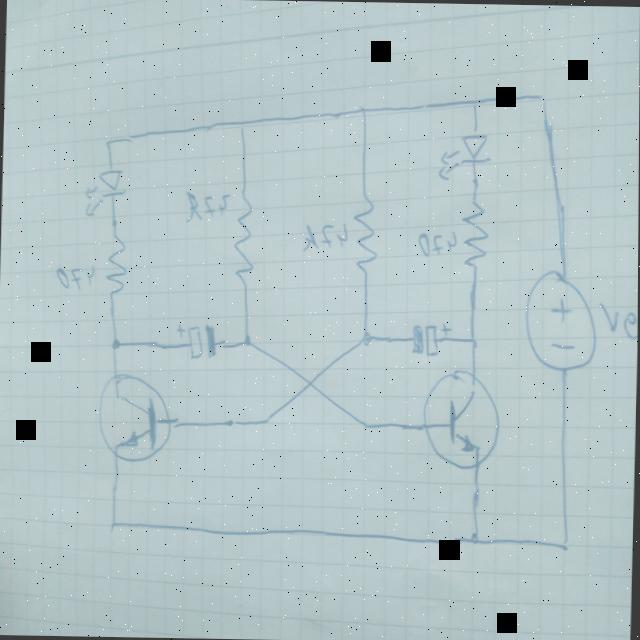capacitor: (172, 318, 218, 358), (408, 318, 453, 357)
crossover: (301, 370, 319, 396)
diode: (435, 130, 492, 183), (79, 164, 127, 219)
junction: (533, 89, 551, 107), (255, 412, 273, 430), (466, 528, 482, 546), (558, 533, 571, 553), (356, 100, 370, 118), (466, 95, 482, 110), (239, 333, 254, 349), (359, 415, 372, 432), (234, 116, 247, 132), (467, 332, 480, 347), (109, 335, 121, 351), (107, 516, 119, 532), (360, 330, 372, 345), (103, 135, 115, 149)
resistor: (229, 184, 256, 284), (460, 195, 491, 272), (351, 194, 380, 272), (102, 230, 128, 306)
source: (522, 264, 599, 372)
text: (301, 218, 349, 256), (599, 300, 638, 342), (182, 188, 230, 222), (415, 226, 459, 260), (53, 260, 95, 292)
transistor: (422, 366, 501, 468), (94, 369, 175, 463)
